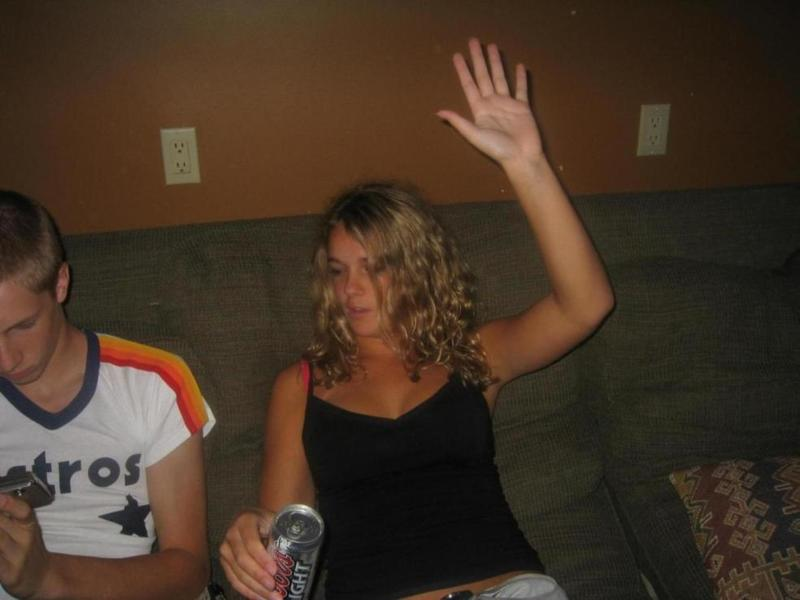person: (219, 38, 613, 600)
